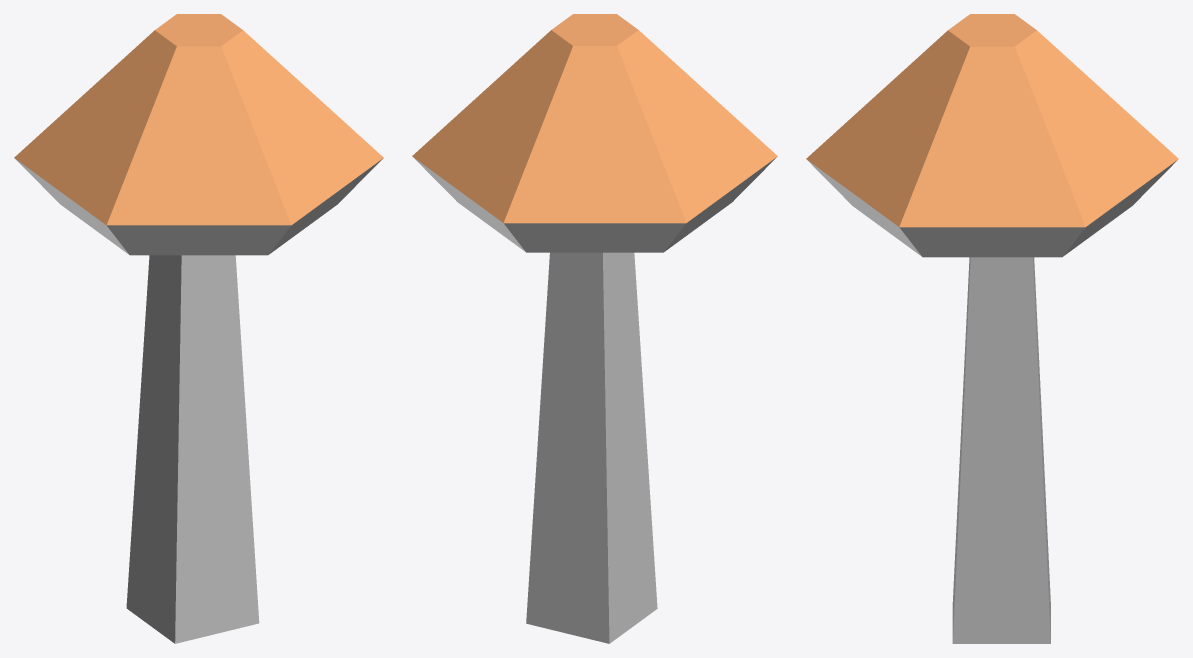
Rendered from mushroom-tan-tall.glb.
The picture shows the model from 3 angles, left to right: view 1: azimuth 30°, elevation 25°; view 2: azimuth 150°, elevation 25°; view 3: azimuth 270°, elevation 25°; orthographic projection.
Parts seen in each view (by area): view 1: mushroom_tanTall; view 2: mushroom_tanTall; view 3: mushroom_tanTall.
Part boxes in pixels (left/top/right/bottom): mushroom_tanTall: left=14, top=14, right=383, bottom=643; mushroom_tanTall: left=412, top=14, right=777, bottom=643; mushroom_tanTall: left=806, top=14, right=1178, bottom=643.
Size of the model in its own units: 0.1235 by 0.2505 by 0.1426.
